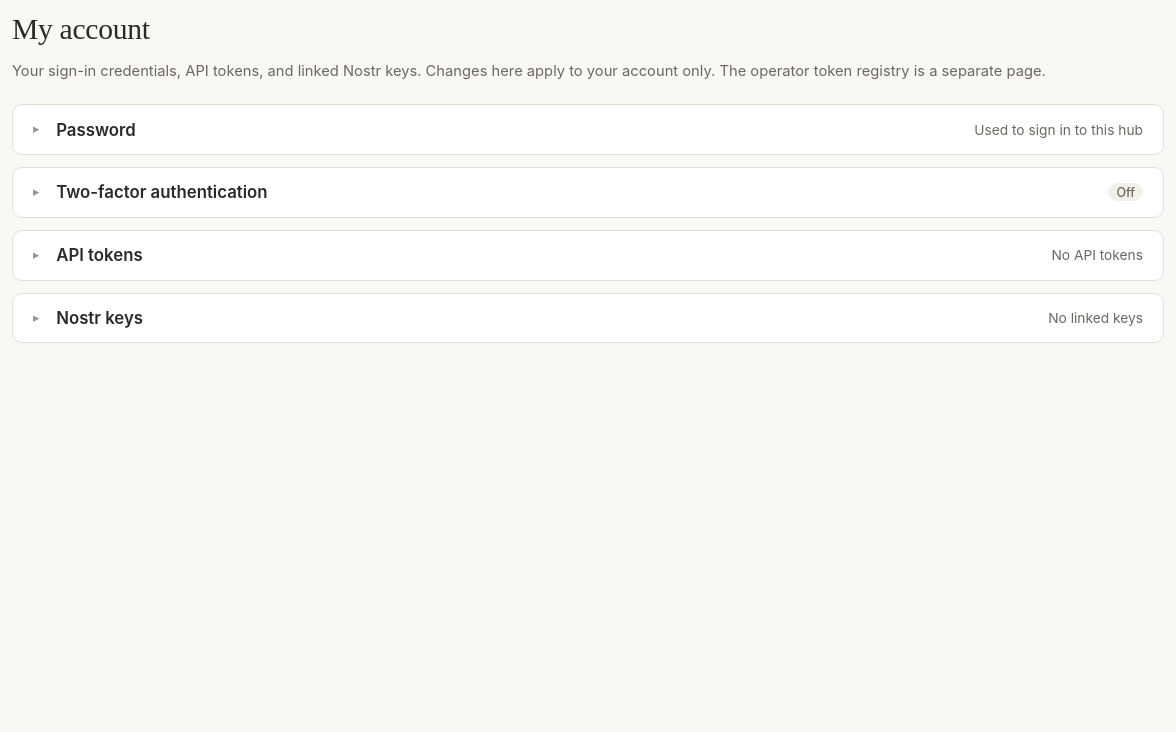
Scenario: Account — password change › POSTs current + new on submit and shows a notice
Click the button with test id "account-password-toggle": (96, 130) [13, 105, 1163, 154]
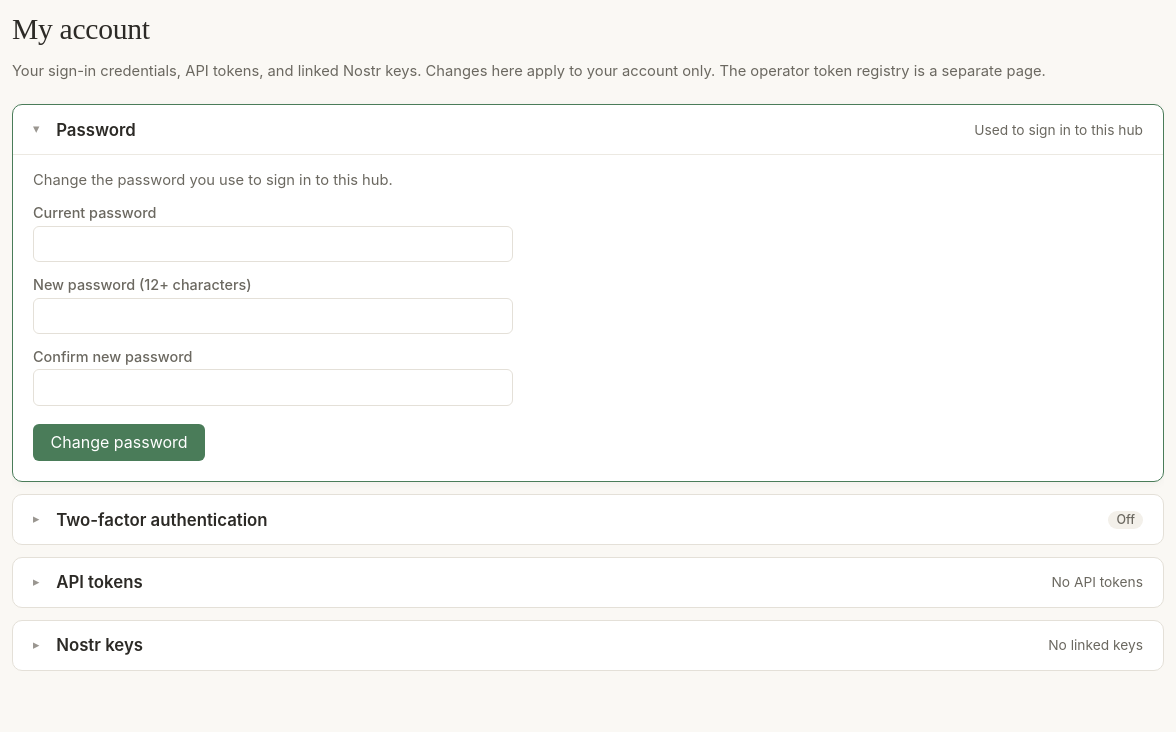
In the password field with test id "account-current-password": (273, 244) [33, 226, 513, 262], type "old-password-123"
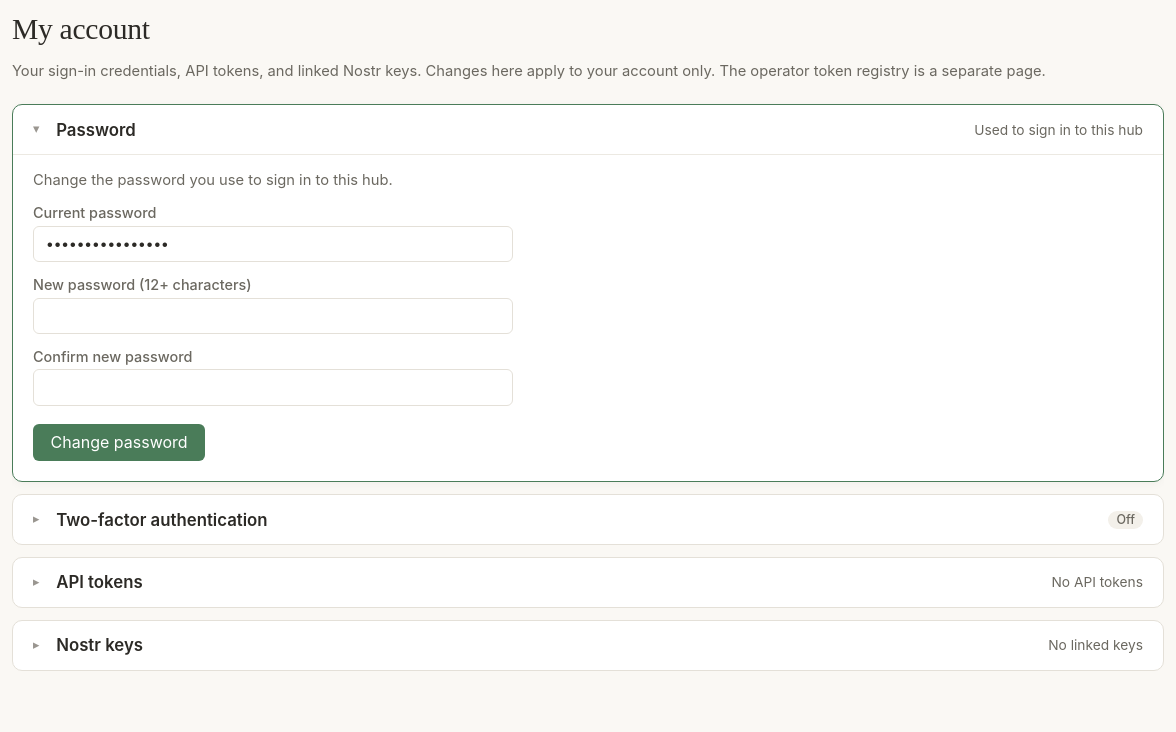
In the password field with test id "account-new-password": (273, 316) [33, 298, 513, 334], type "brand-new-passphrase"
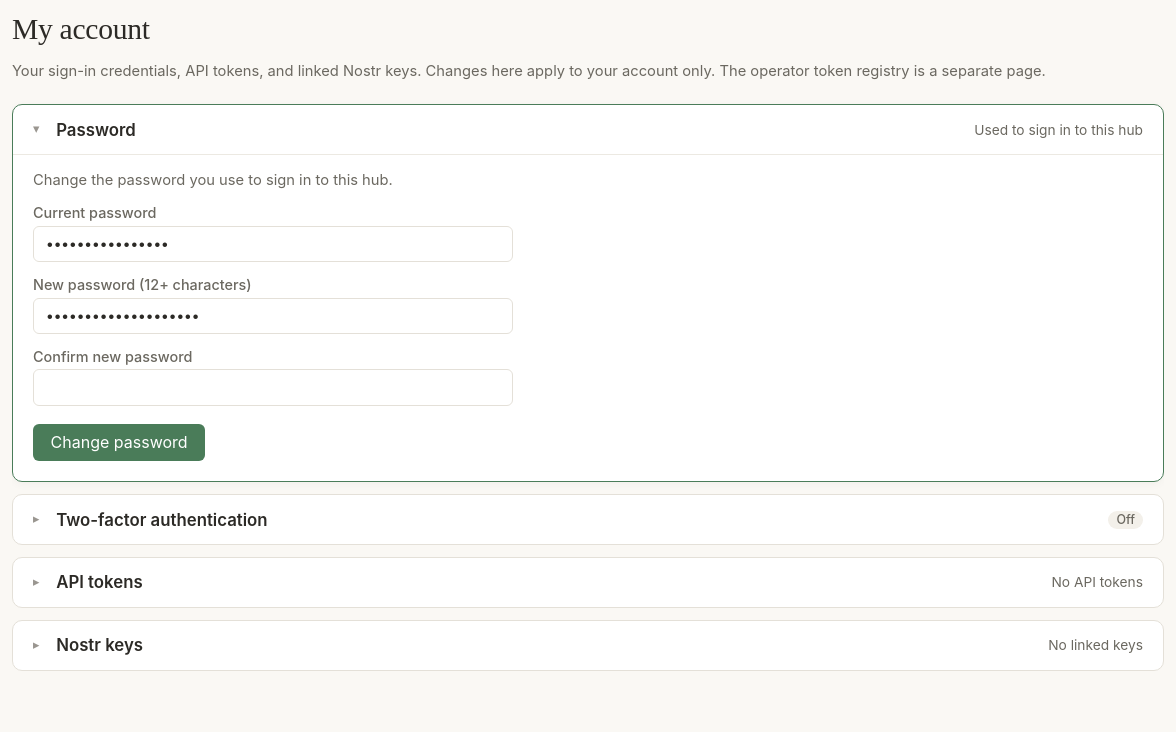
In the password field with test id "account-confirm-password": (273, 388) [33, 370, 513, 406], type "brand-new-passphrase"
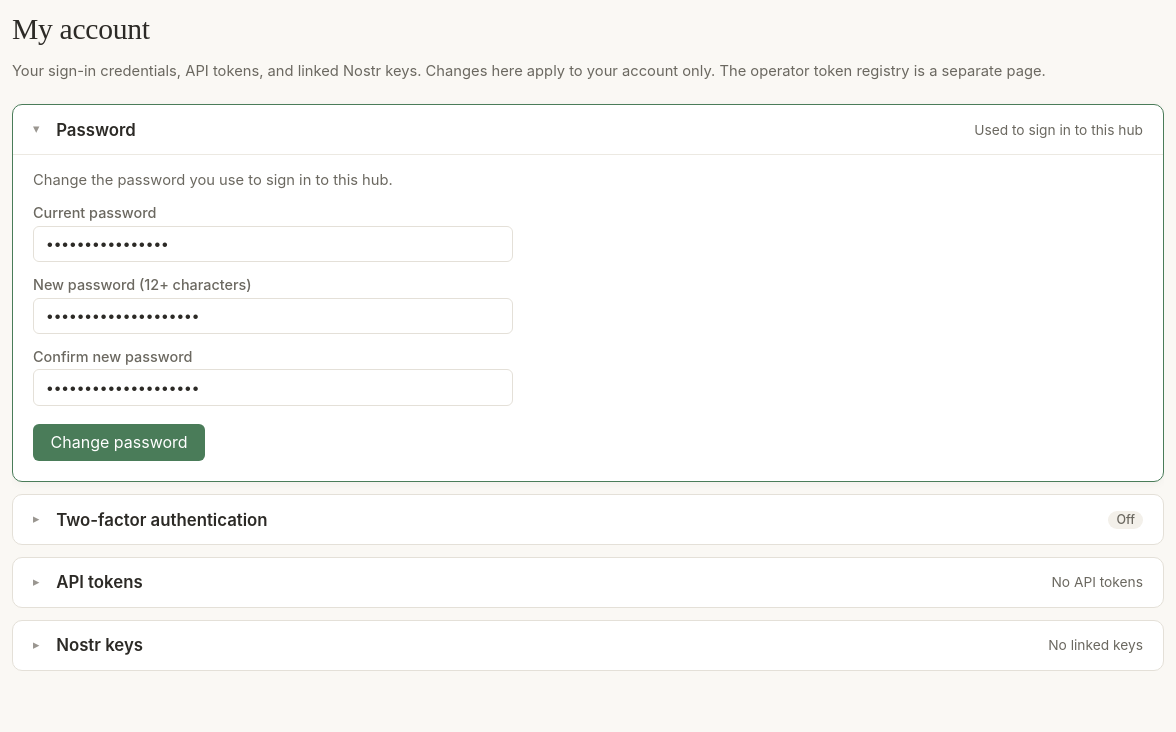
Click the button with test id "account-change-password": (119, 442) [33, 424, 205, 461]
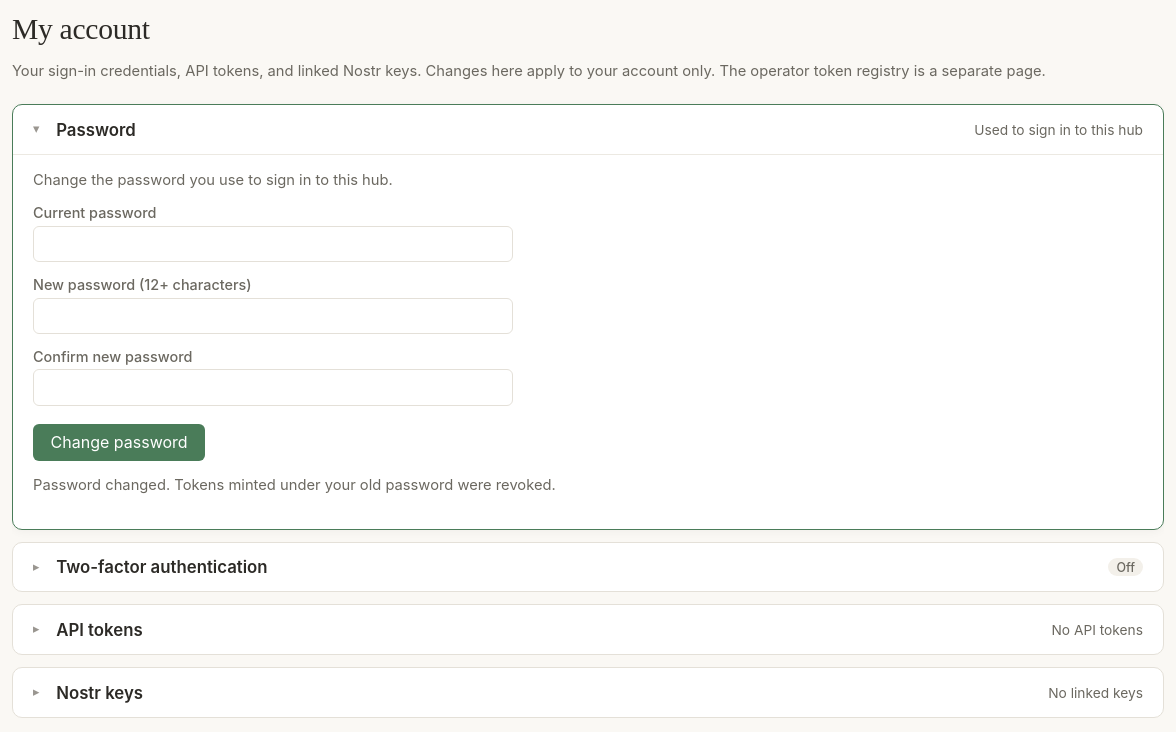
Expected: the text with test id "account-password-notice" shows "Password changed", [33, 476, 556, 494]
